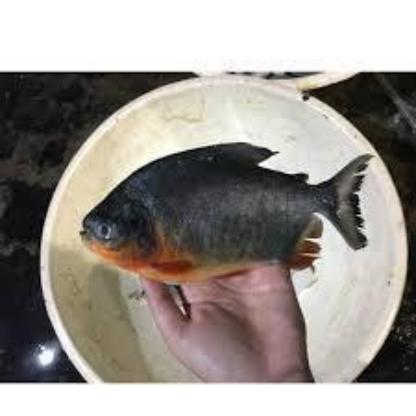ikan-pacu: (74, 142, 372, 282)
